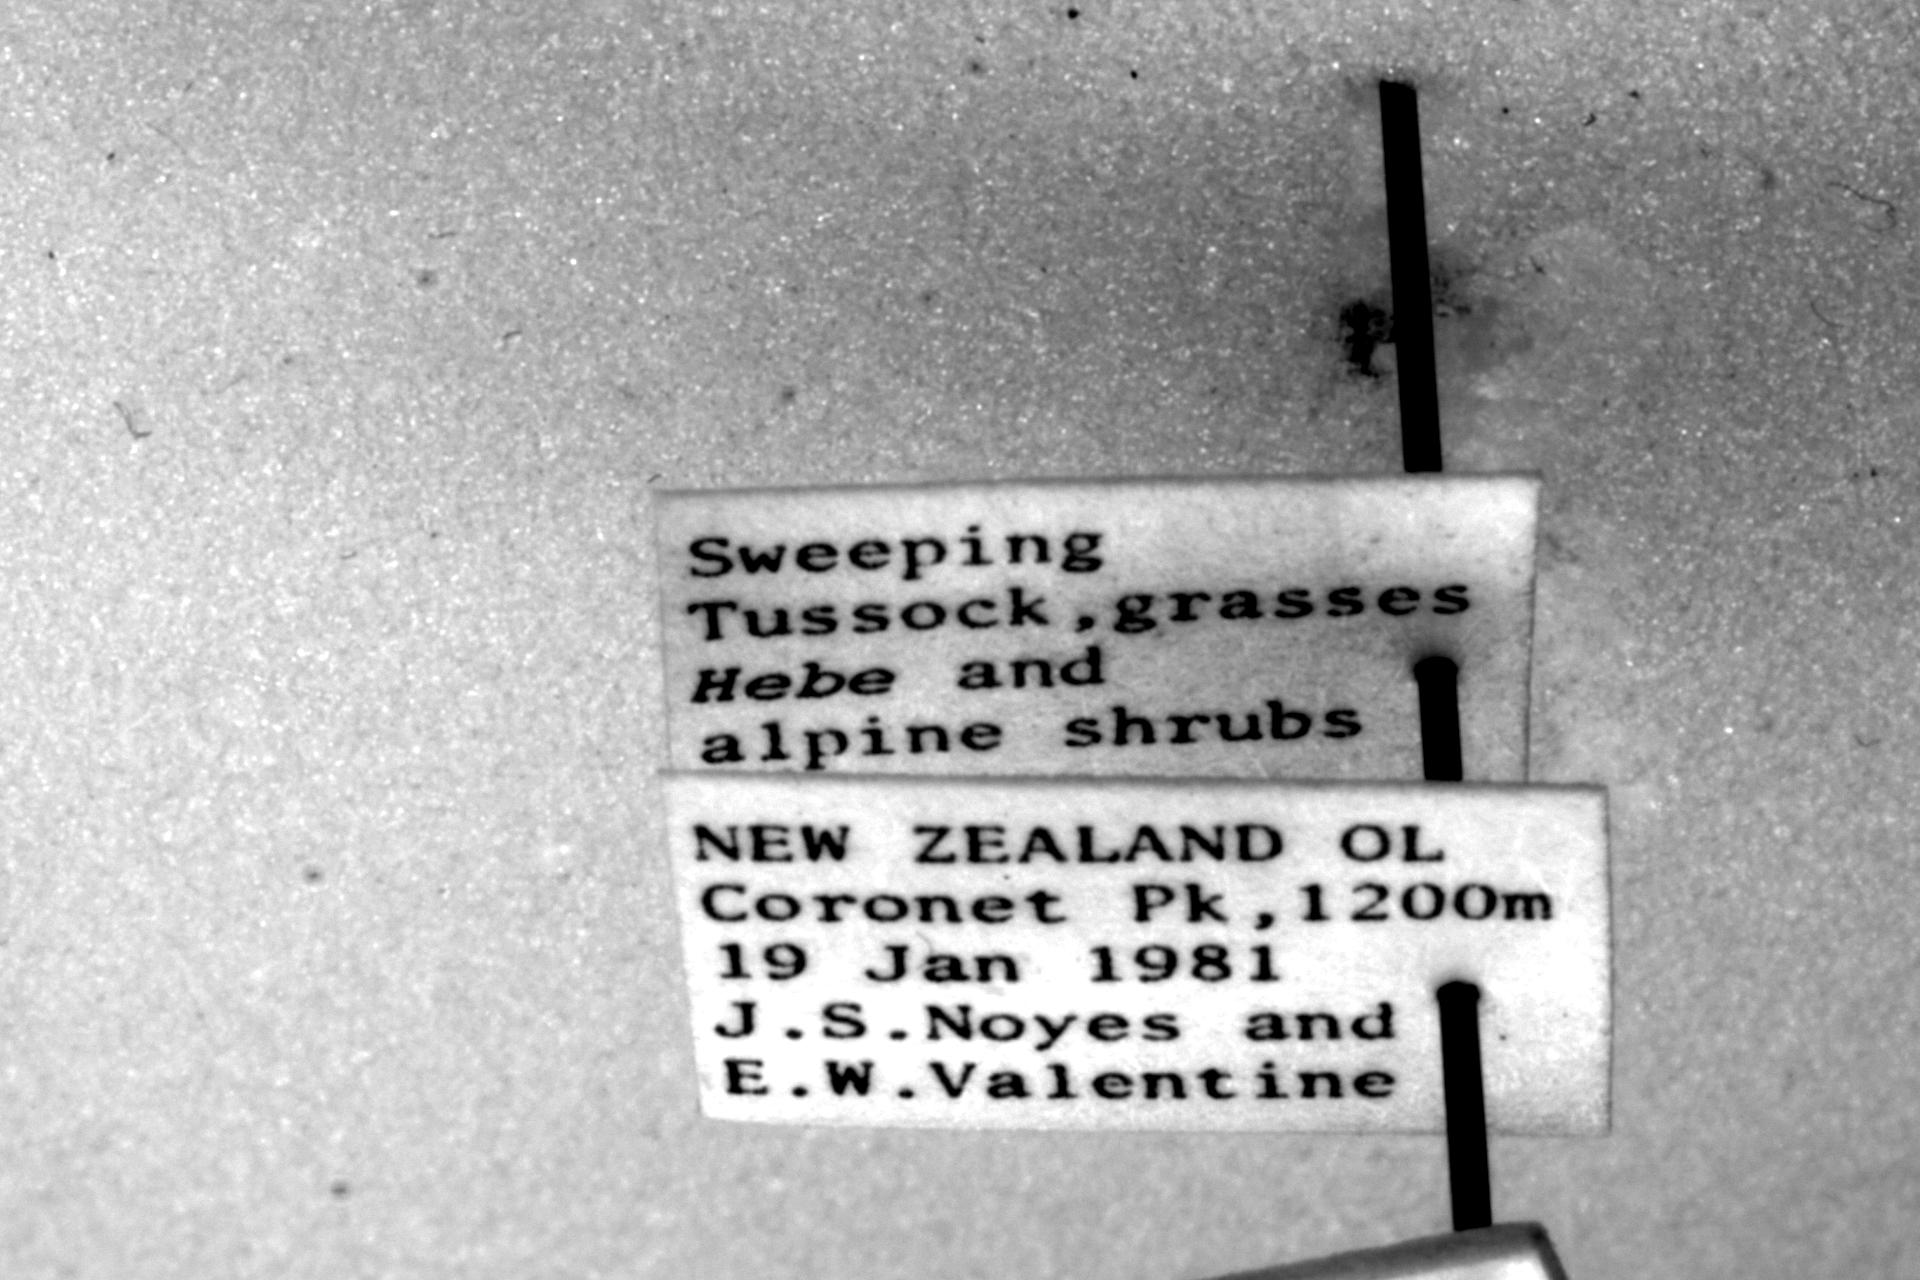typed_label: (664, 773, 1609, 1136), (656, 476, 1537, 784)
